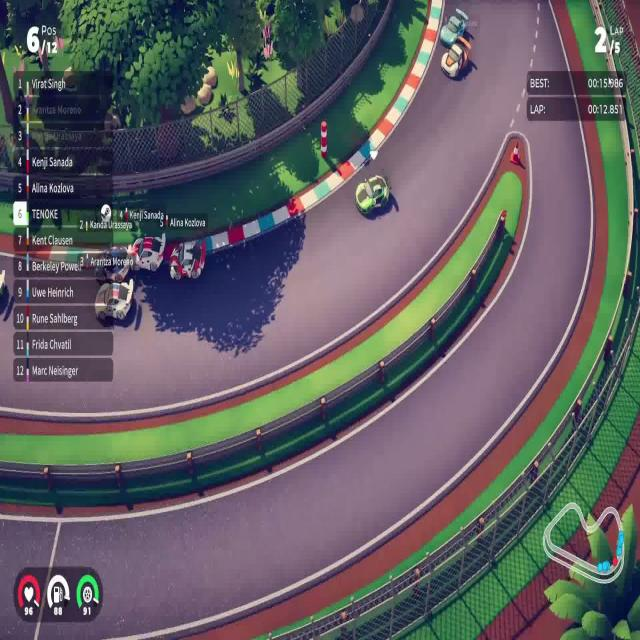car: (94, 276, 134, 322), (168, 237, 206, 282), (354, 173, 391, 218), (128, 232, 166, 273), (441, 35, 471, 82)
